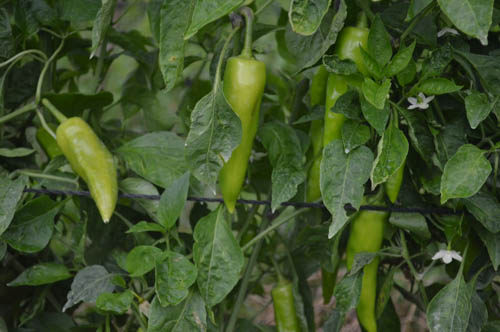ChiliPepper: (326, 28, 370, 193), (218, 58, 263, 213), (60, 119, 120, 225), (351, 209, 383, 326), (272, 283, 300, 328)
